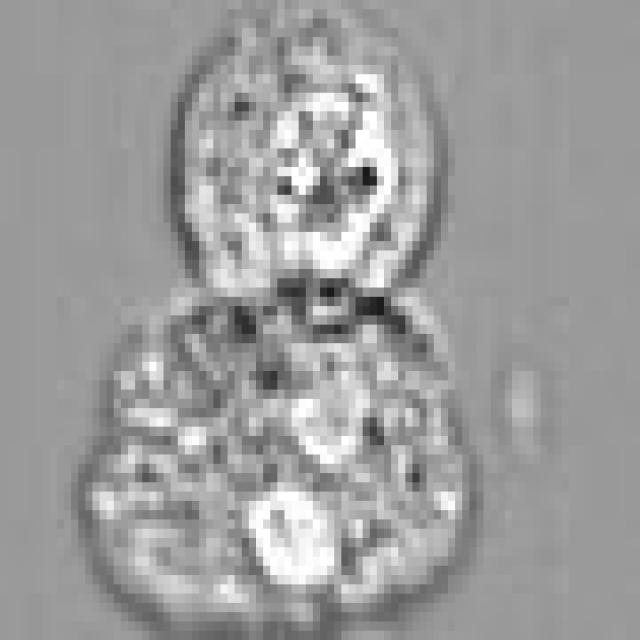Cancer Cell: (171, 9, 441, 325)
WBC: (86, 297, 483, 612)
